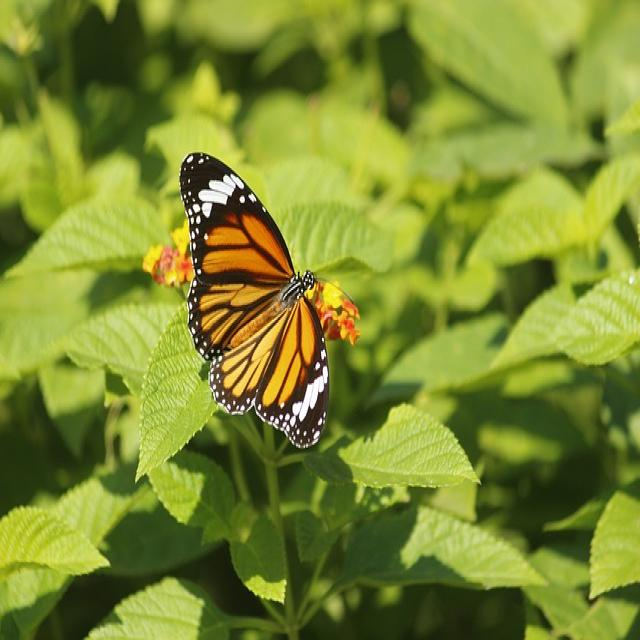butterfly: (142, 152, 361, 451)
